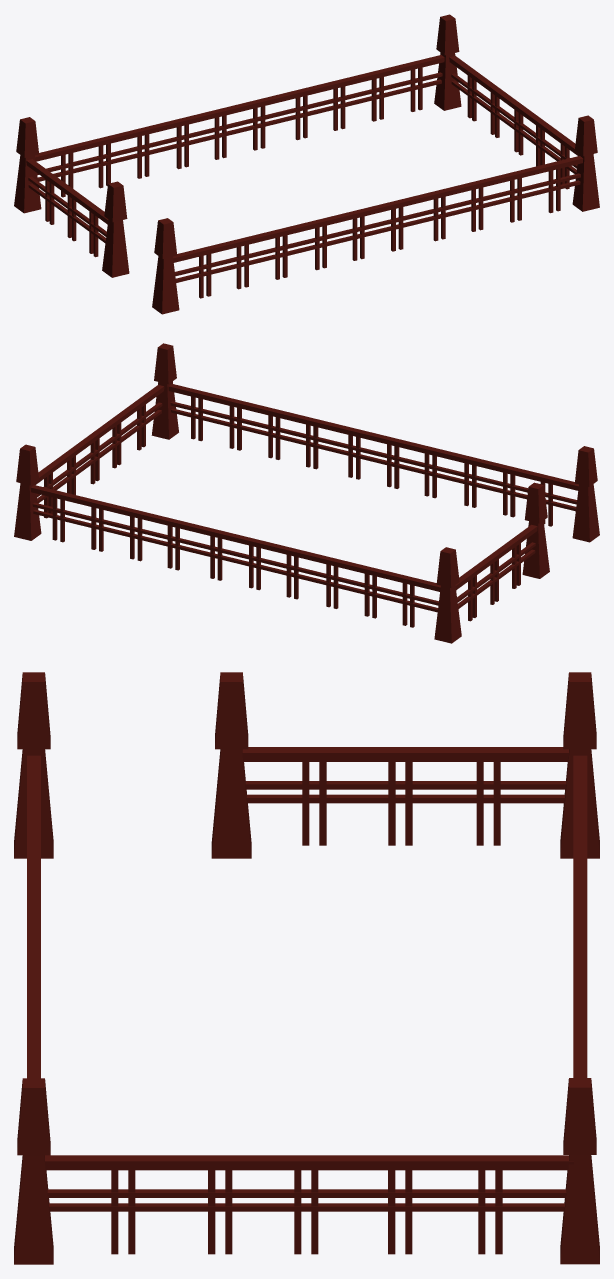
File: fence2.fbx
The picture shows the model from 3 angles, top to bottom: view 1: azimuth 30°, elevation 25°; view 2: azimuth 150°, elevation 25°; view 3: azimuth 270°, elevation 25°; orthographic projection. The views are drawn at different scales.
Visible parts, largest first — view 1: fence2; view 2: fence2; view 3: fence2.
Boxes of the visible parts, x1,y1,x2,y2 form: fence2: [14, 14, 599, 314]; fence2: [14, 343, 599, 643]; fence2: [14, 672, 599, 1264].
Size of the model in its own units: 976 by 186 by 572.
